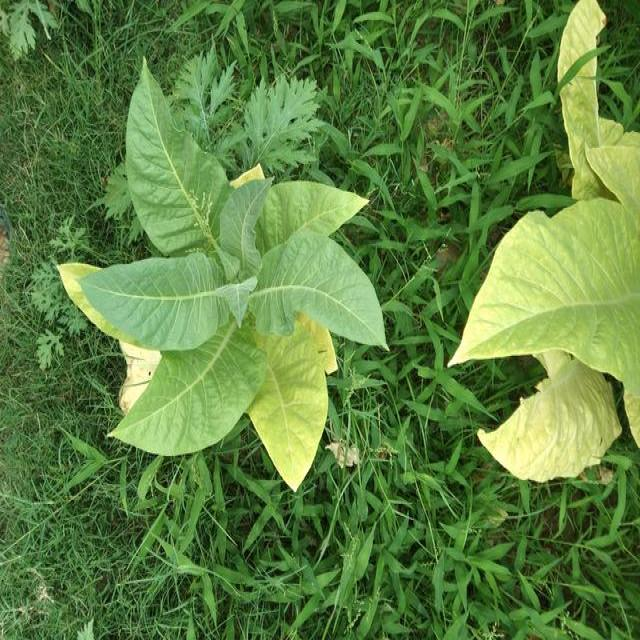crop: (61, 47, 397, 491)
